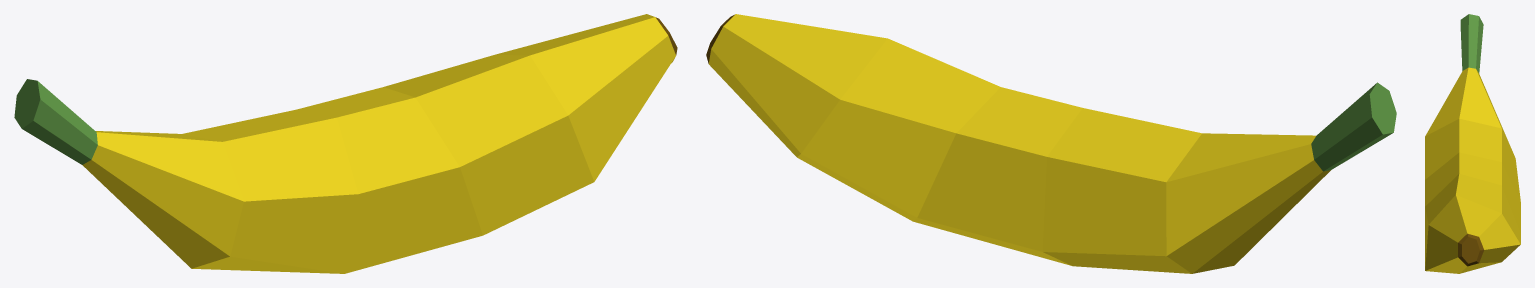
File: lowpoly_nana.fbx
The picture shows the model from 3 angles, left to right: view 1: azimuth 30°, elevation 25°; view 2: azimuth 150°, elevation 25°; view 3: azimuth 270°, elevation 25°; orthographic projection. The views are drawn at different scales.
Parts seen in each view (by area): view 1: Cylinder; view 2: Cylinder; view 3: Cylinder.
Part boxes in pixels (x1=…): Cylinder: x1=14, y1=14, x2=677, y2=273; Cylinder: x1=706, y1=14, x2=1396, y2=273; Cylinder: x1=1425, y1=14, x2=1520, y2=273.
Size of the model in its own units: 883 by 307 by 197.
